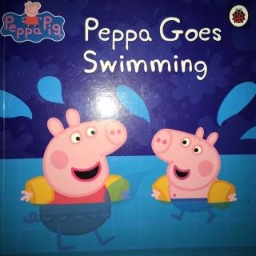Peppa: (21, 106, 132, 253)
